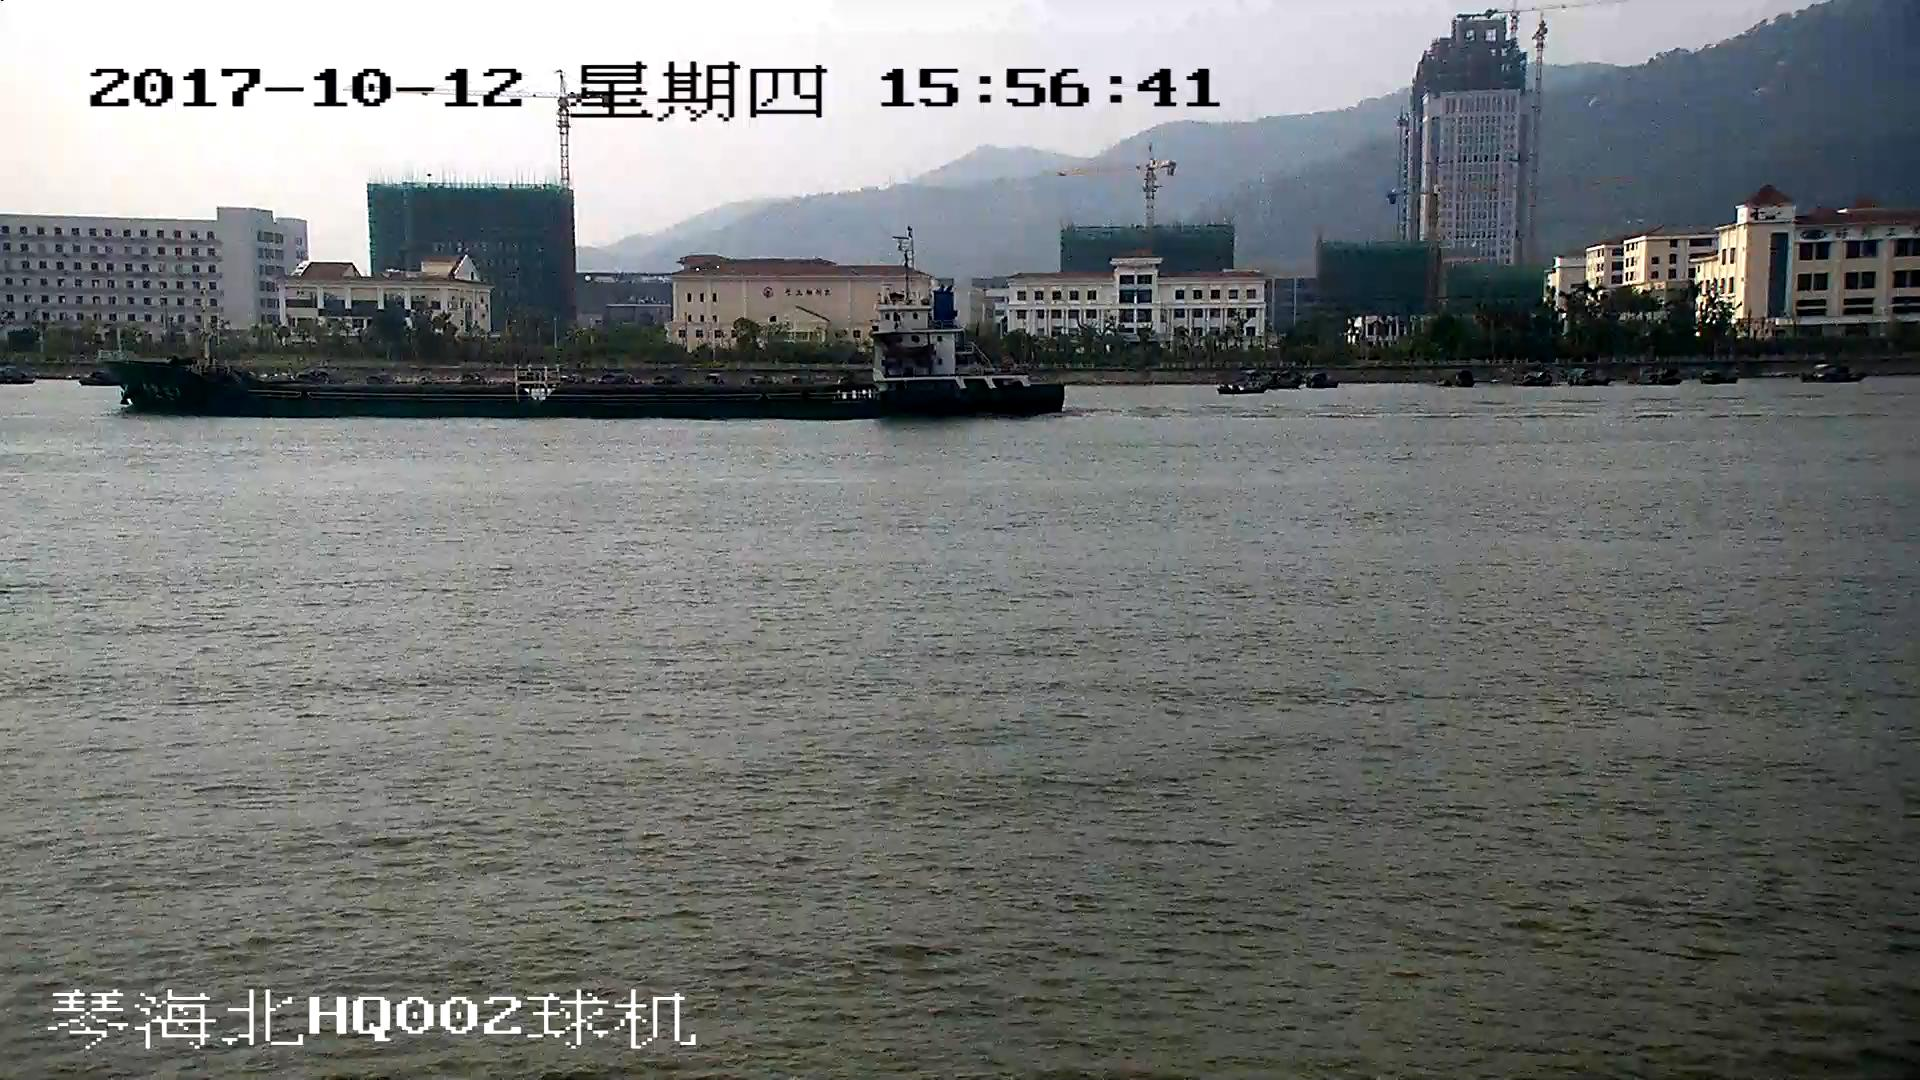general cargo ship: (88, 282, 1065, 423)
